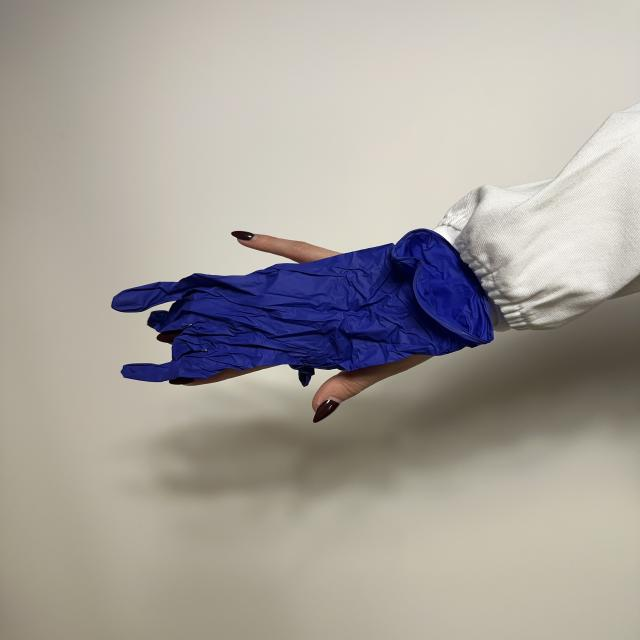glove_not_fitted: (112, 230, 493, 422)
